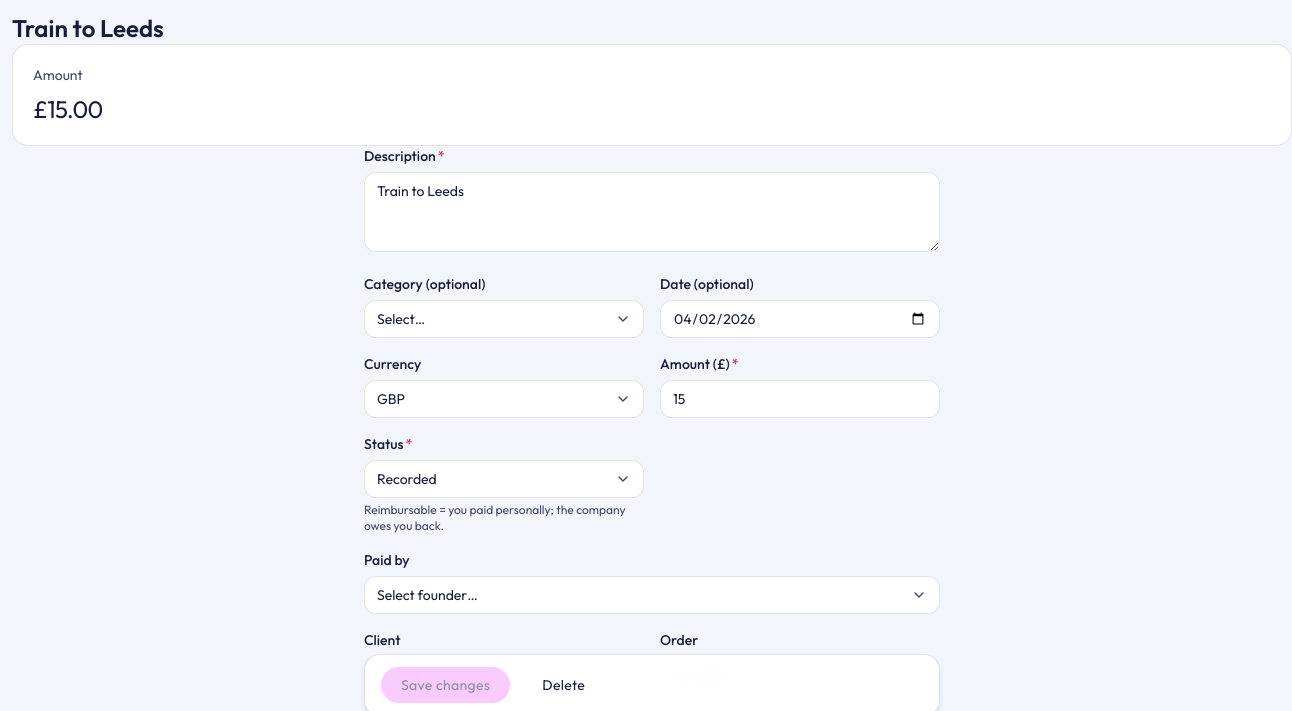
Test: foreign currency amounts › converts at the Bank of England rate until the GBP amount is typed over
Click the dropdown named "Currency": (391, 399) [364, 380, 644, 418]
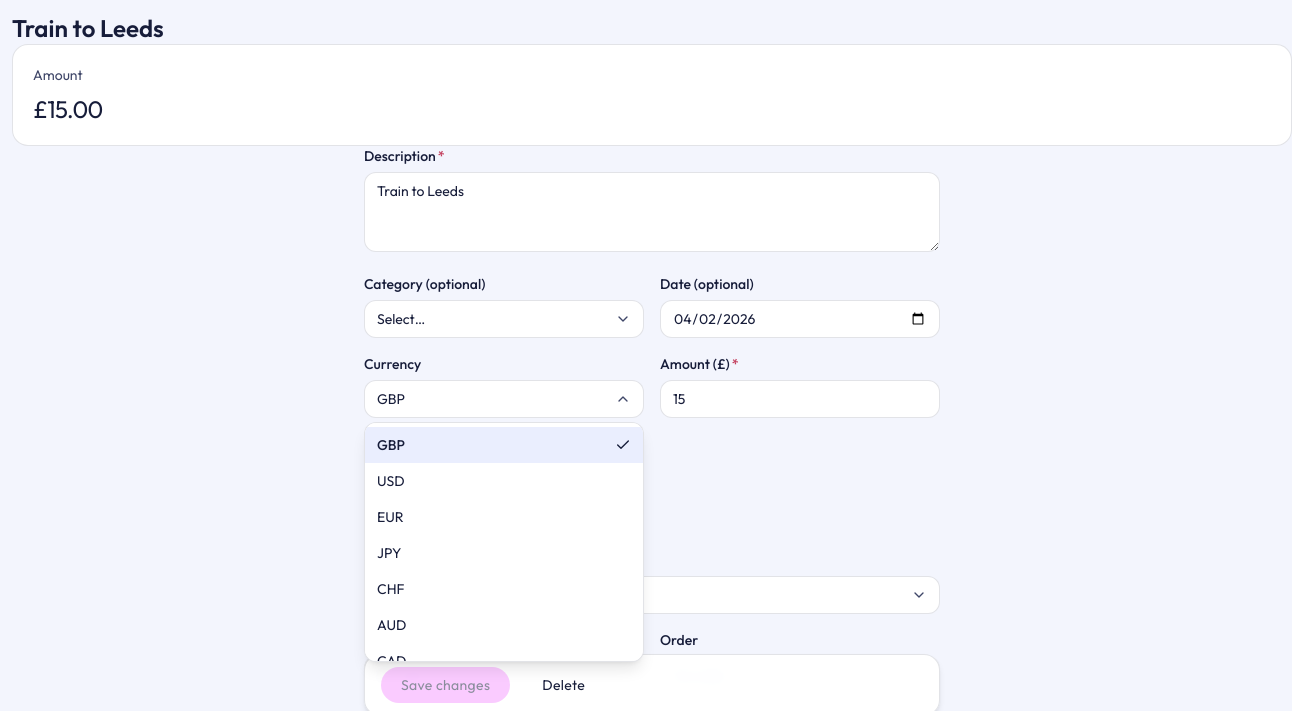
Click the option "USD": (391, 481) [377, 472, 405, 490]
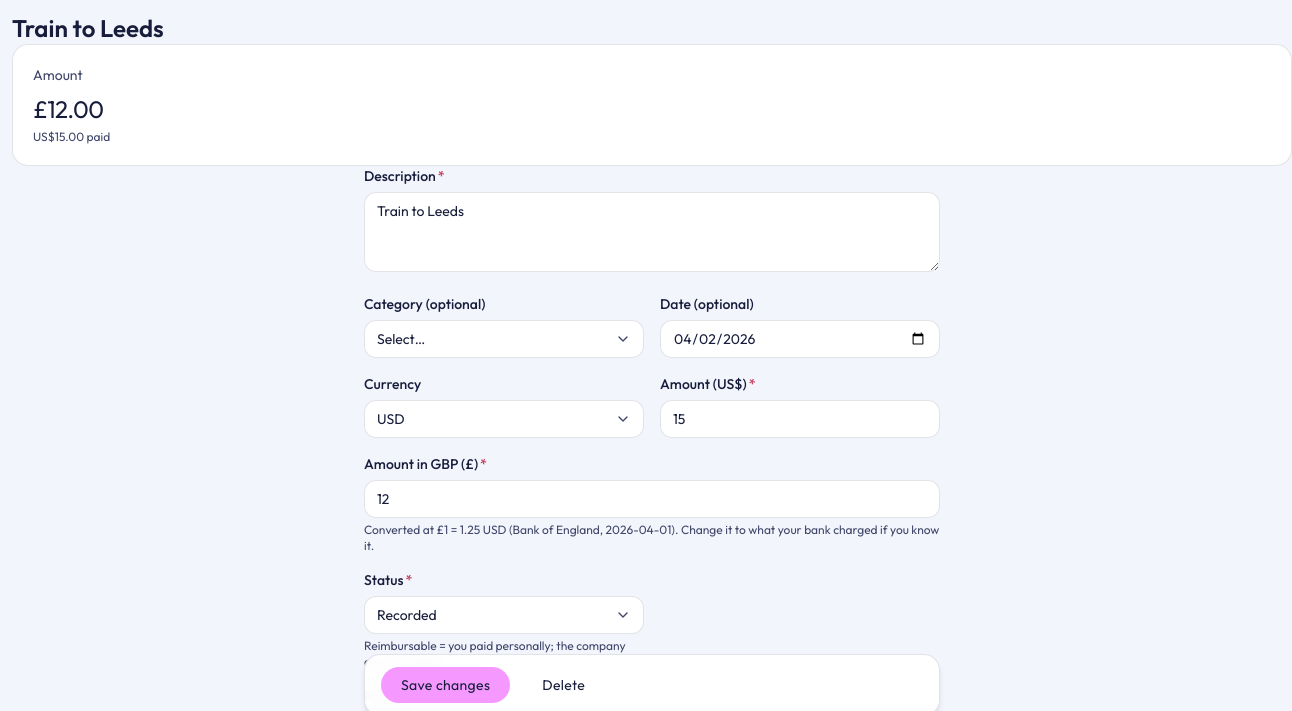
Check: the field labelled "Amount (US$)*" holds "15"
Check: the text "£12.00" is shown, box [33, 94, 103, 124]
Check: the text "US$15.00 paid" is shown, box [33, 129, 110, 144]
Replace the text in the field labelled "Amount (US$)*" with "20": (800, 419) [660, 400, 940, 438]
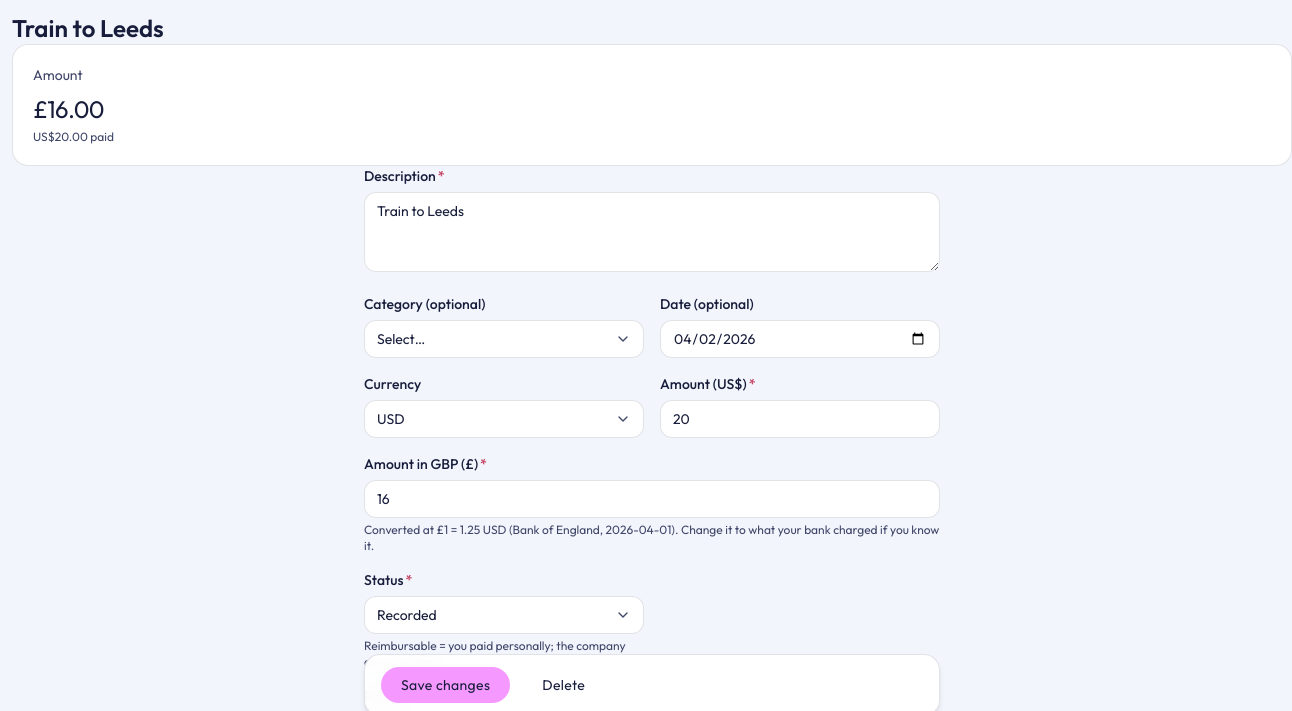
Check: the text "£16.00" is shown, box [33, 94, 104, 124]
Check: the field labelled "Amount in GBP (£)*" holds "16"
Replace the text in the field labelled "Amount in GBP (£)*" with "16.20": (652, 499) [364, 480, 940, 518]
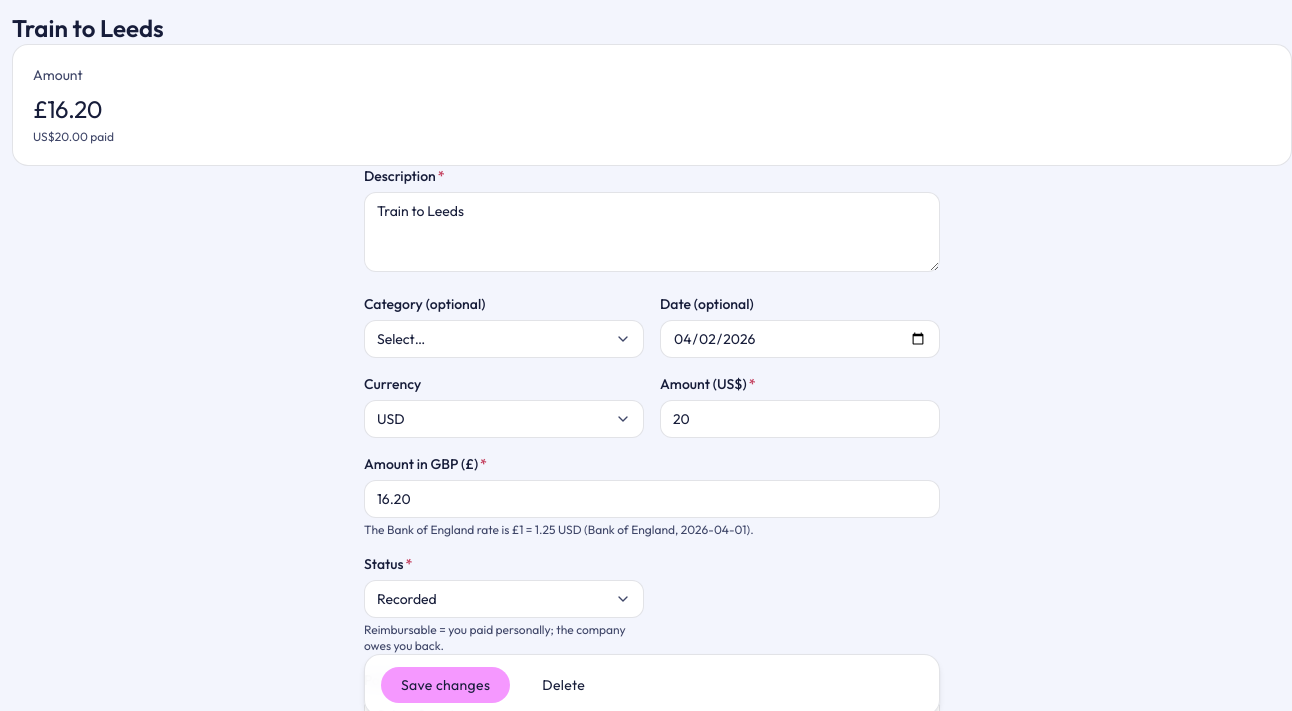
Check: the text "£16.20" is shown, box [33, 94, 102, 124]
Check: the text "The Bank of England rate is £1 = 1.25 USD" is shown, box [364, 522, 754, 537]
Replace the text in the field labelled "Amount (US$)*" with "25": (800, 419) [660, 400, 940, 438]
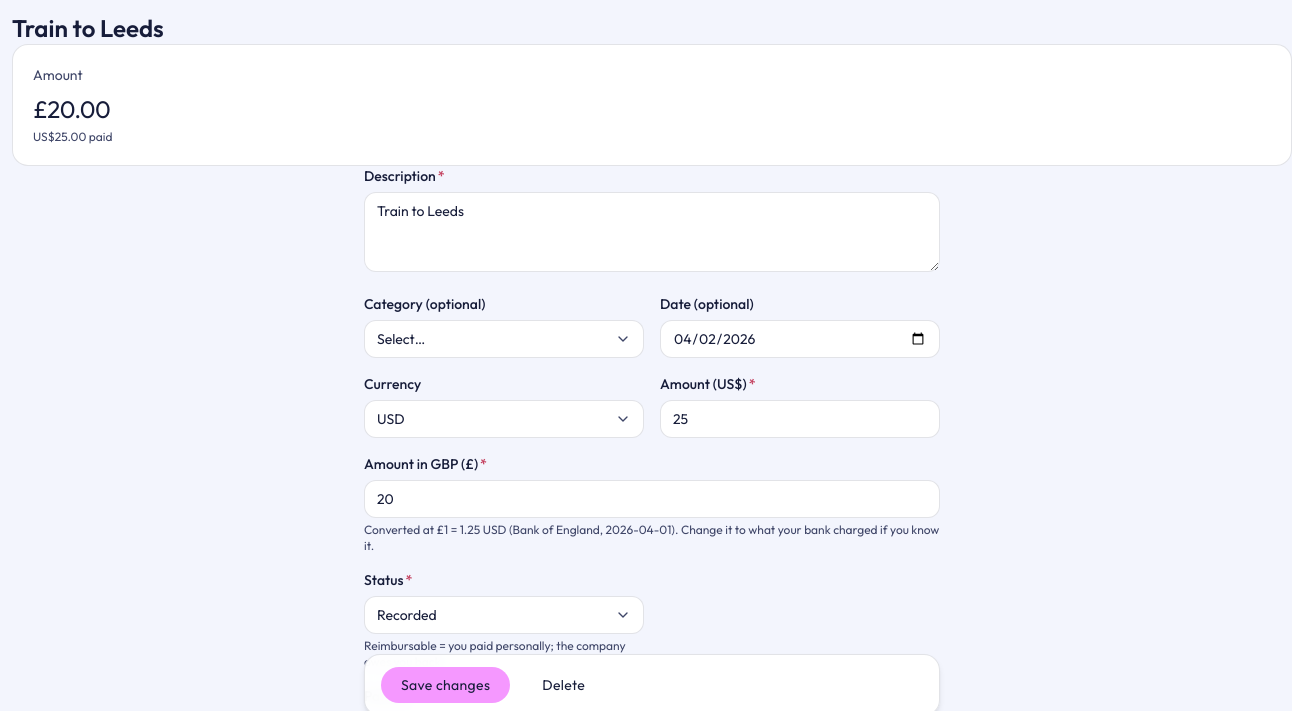
Check: the text "£20.00" is shown, box [33, 94, 110, 124]
